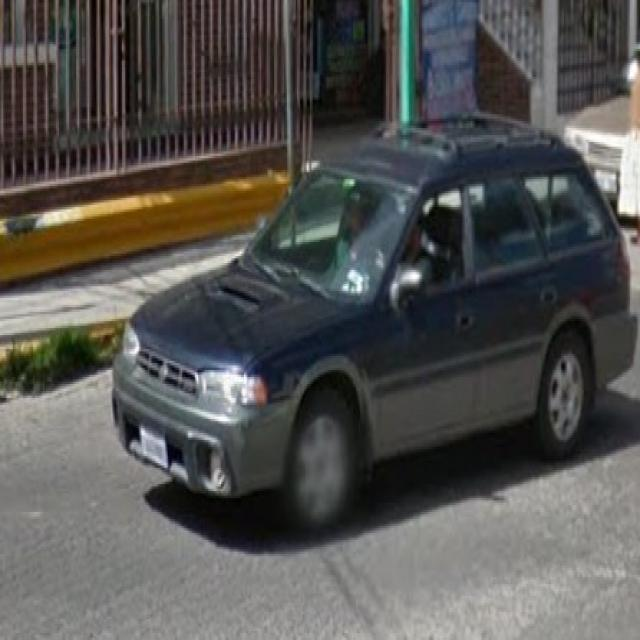cars: (111, 113, 640, 554)
